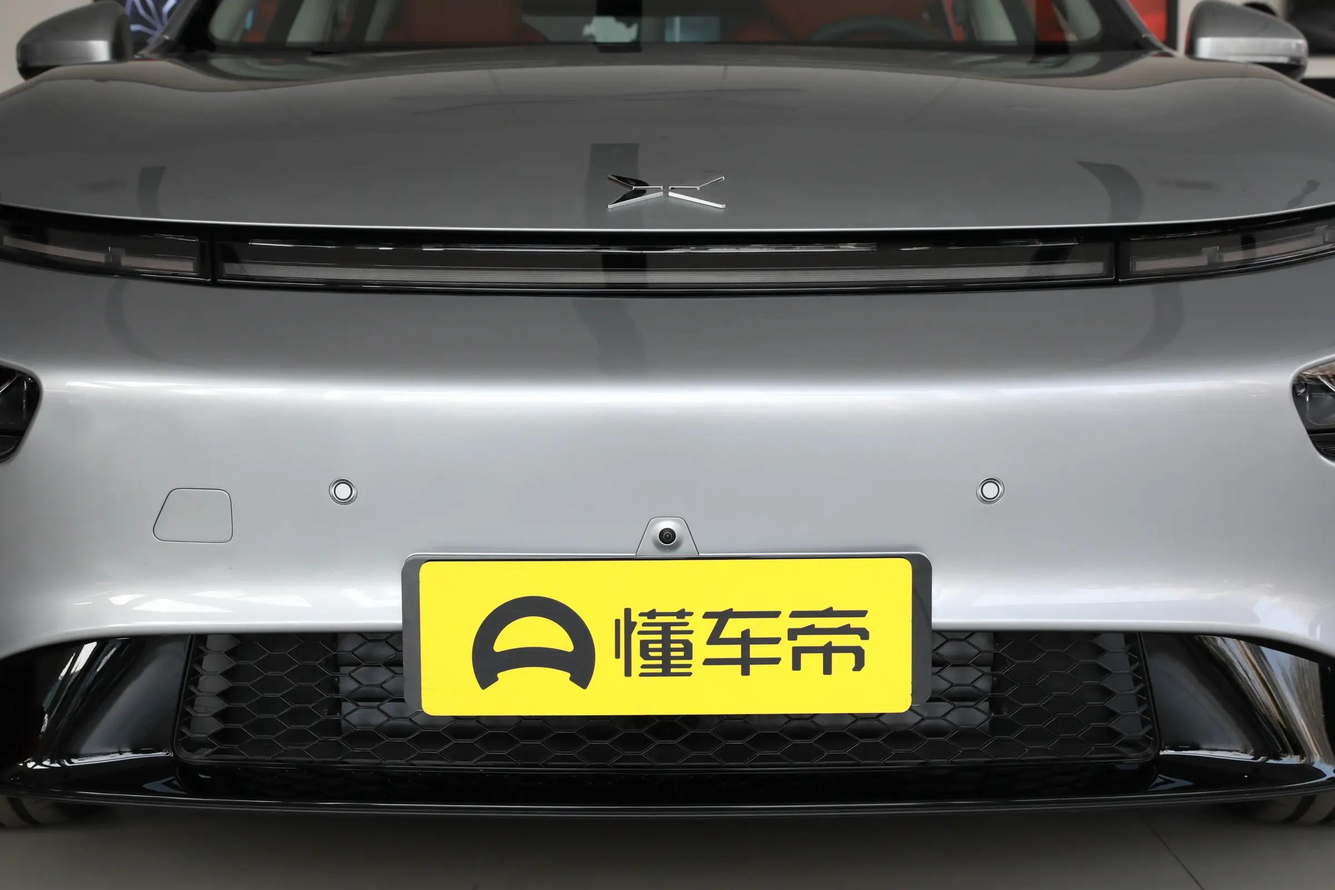XPeng Motors: (606, 174, 726, 208)
